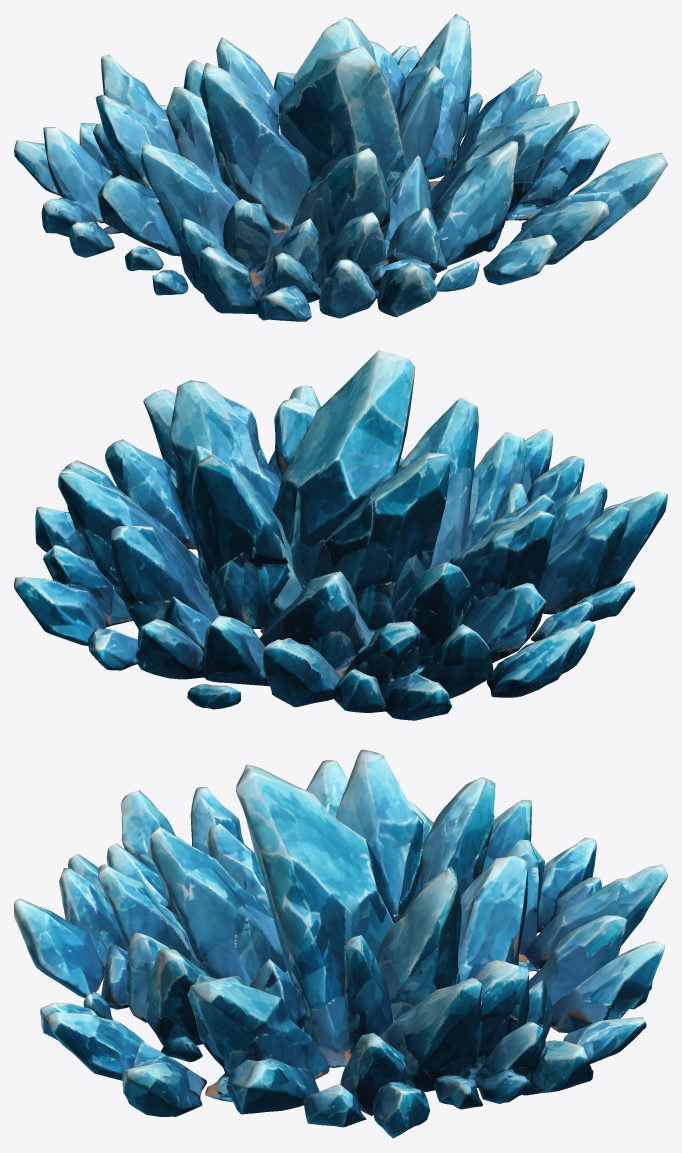
Rendered from IceSpike_07.fbx.
3 renders of one model, top to bottom at view 1: azimuth 30°, elevation 25°; view 2: azimuth 150°, elevation 25°; view 3: azimuth 270°, elevation 25°, orthographic. The views are drawn at different scales.
Parts seen in each view (by area): view 1: texture_mapping; view 2: texture_mapping; view 3: texture_mapping.
Boxes of the visible parts, left/top/right/bottom form: texture_mapping: left=14, top=14, right=667, bottom=321; texture_mapping: left=14, top=350, right=667, bottom=720; texture_mapping: left=14, top=749, right=667, bottom=1138.
Bounding box in the file's own units: 0.9933 × 0.9549 × 0.3744.
Materials: 1 (1 with a texture image).
